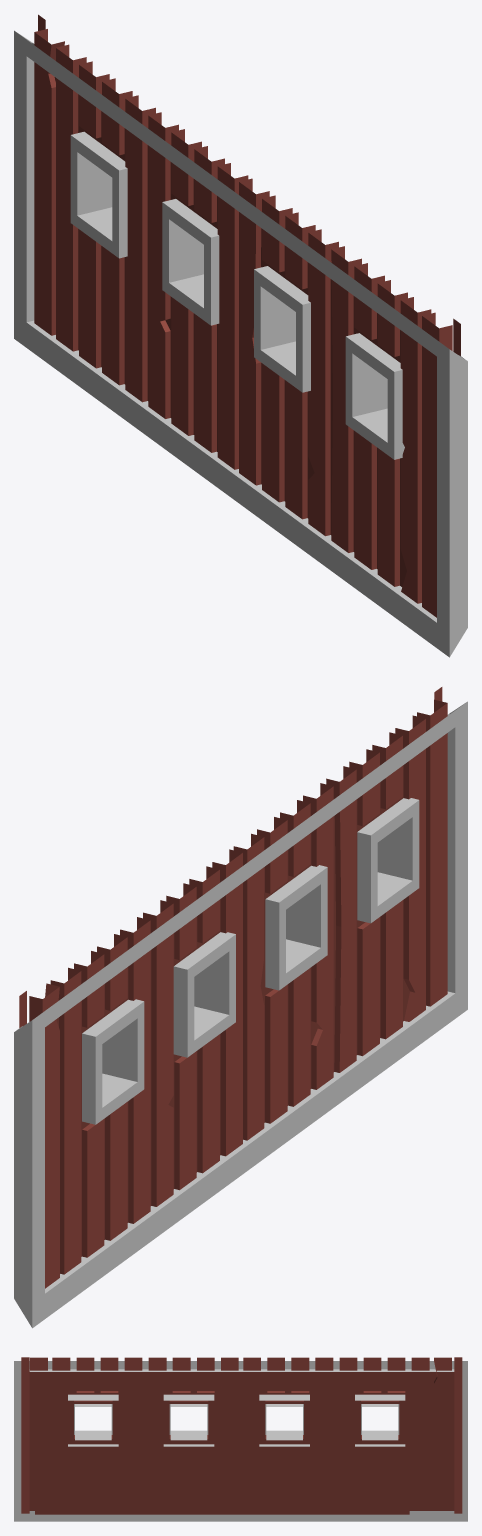
File: Barn Wall 1.fbx
3 renders of one model, top to bottom at view 1: azimuth 30°, elevation 25°; view 2: azimuth 150°, elevation 25°; view 3: azimuth 270°, elevation 25°, orthographic. The views are drawn at different scales.
Parts seen in each view (by area): view 1: Barn_Cube.005; view 2: Barn_Cube.005; view 3: Barn_Cube.005.
Part boxes in pixels (x1=…): Barn_Cube.005: x1=14, y1=14, x2=467, y2=657; Barn_Cube.005: x1=14, y1=687, x2=467, y2=1328; Barn_Cube.005: x1=14, y1=1357, x2=467, y2=1521.
Bounding box in the file's own units: 39.85 × 327 × 798.
